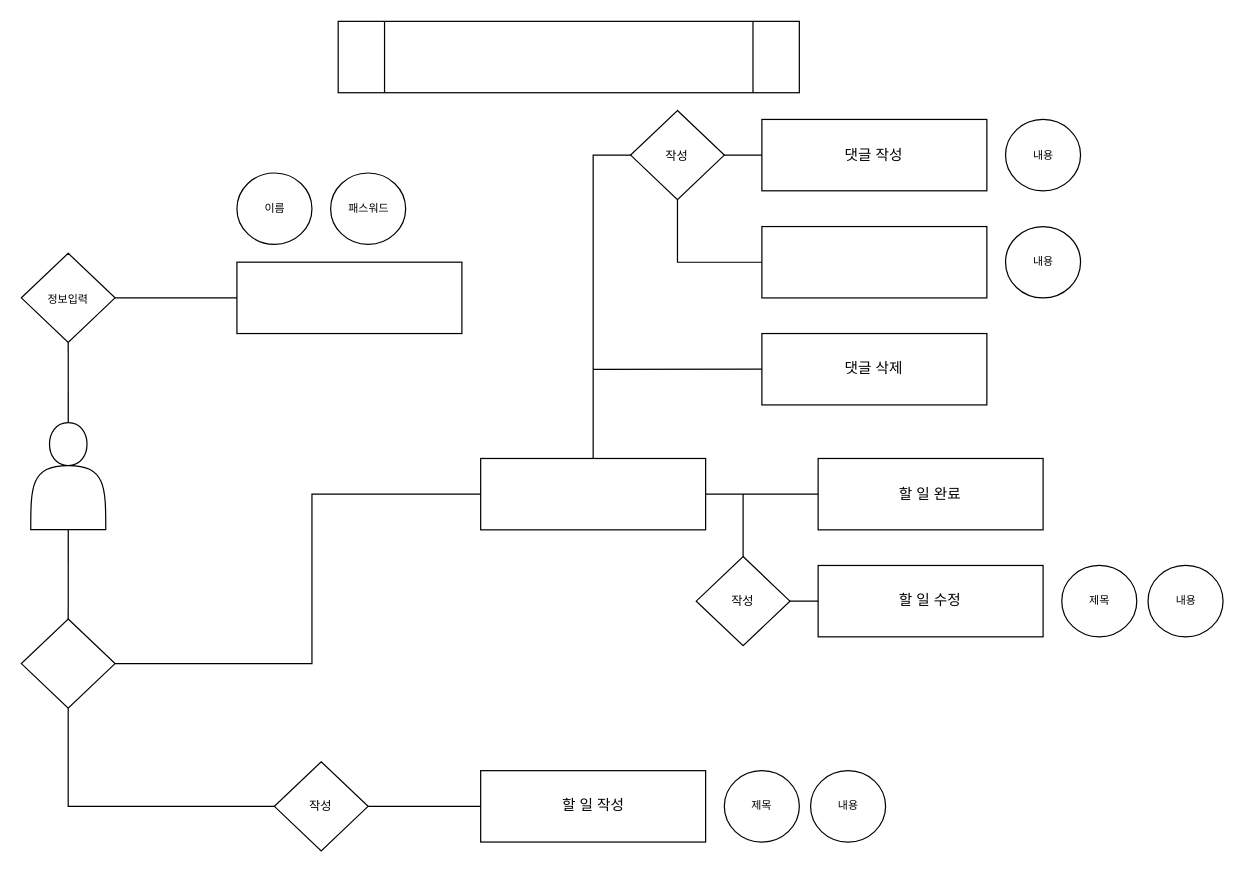
Image size: 1244x872. Some labels were removed from this diagram. The shapes that lost their labels are listed below. From the top down, each one's box as (x1, y1, x2, y2) in pixels, then its label:
(337, 20, 799, 93): UseCaseDiagram
(761, 225, 987, 298): 댓글 수정
(236, 261, 462, 334): 회원가입
(479, 457, 706, 530): 할 일 조회
(20, 618, 115, 708): 로그인
